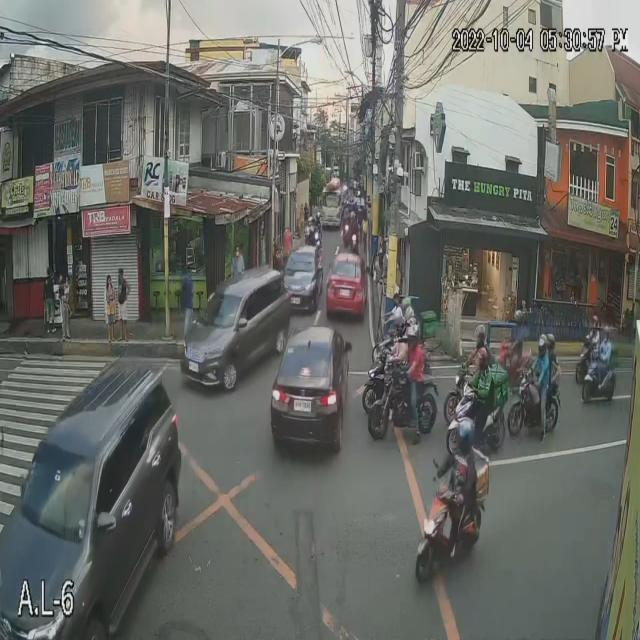Full-Faced: (454, 409, 475, 446), (538, 337, 550, 361), (406, 306, 420, 326), (477, 349, 488, 372), (469, 328, 483, 346), (600, 324, 610, 345), (415, 325, 425, 343), (591, 317, 599, 335), (408, 318, 418, 332), (395, 318, 406, 330), (545, 333, 555, 346)
Half-Faced: (348, 205, 357, 224)
Not-Wearing-Helmet: (360, 212, 368, 232)
